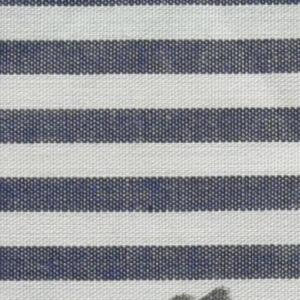Stain: (170, 281, 234, 300)
